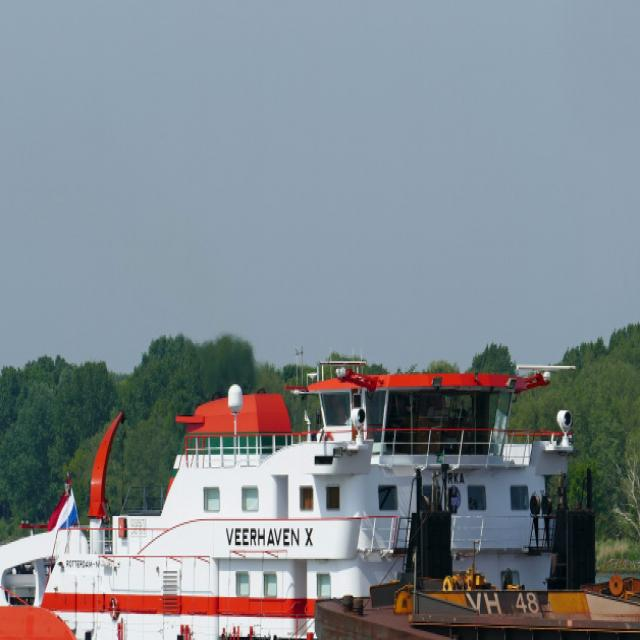tugboat: (1, 342, 609, 640)
